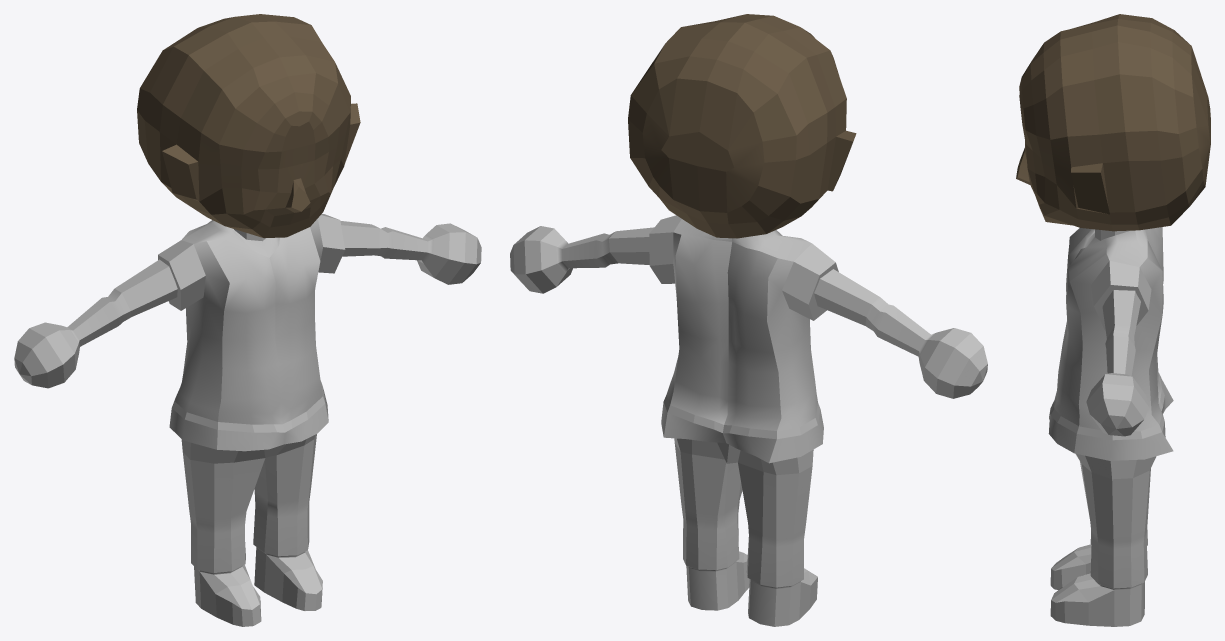
File: NPC B.fbx
The picture shows the model from 3 angles, left to right: view 1: azimuth 30°, elevation 25°; view 2: azimuth 150°, elevation 25°; view 3: azimuth 270°, elevation 25°; orthographic projection. The views are drawn at different scales.
Parts seen in each view (by area): view 1: Short_sleve_body, Face_A, Hand_L_B2; view 2: Short_sleve_body, Face_A, Hand_L_B2; view 3: Face_A, Short_sleve_body, Hand_L_B2.
Part boxes in pixels (bbox=[...]): Short_sleve_body: bbox=[158, 214, 345, 626]; Face_A: bbox=[137, 14, 360, 238]; Hand_L_B2: bbox=[14, 221, 481, 388]; Short_sleve_body: bbox=[649, 215, 838, 626]; Face_A: bbox=[628, 14, 856, 238]; Hand_L_B2: bbox=[510, 226, 987, 398]; Face_A: bbox=[1016, 14, 1210, 231]; Short_sleve_body: bbox=[1048, 227, 1173, 626]; Hand_L_B2: bbox=[1086, 290, 1149, 436].
Size of the model in its own units: 4.41 by 5.25 by 1.61.
